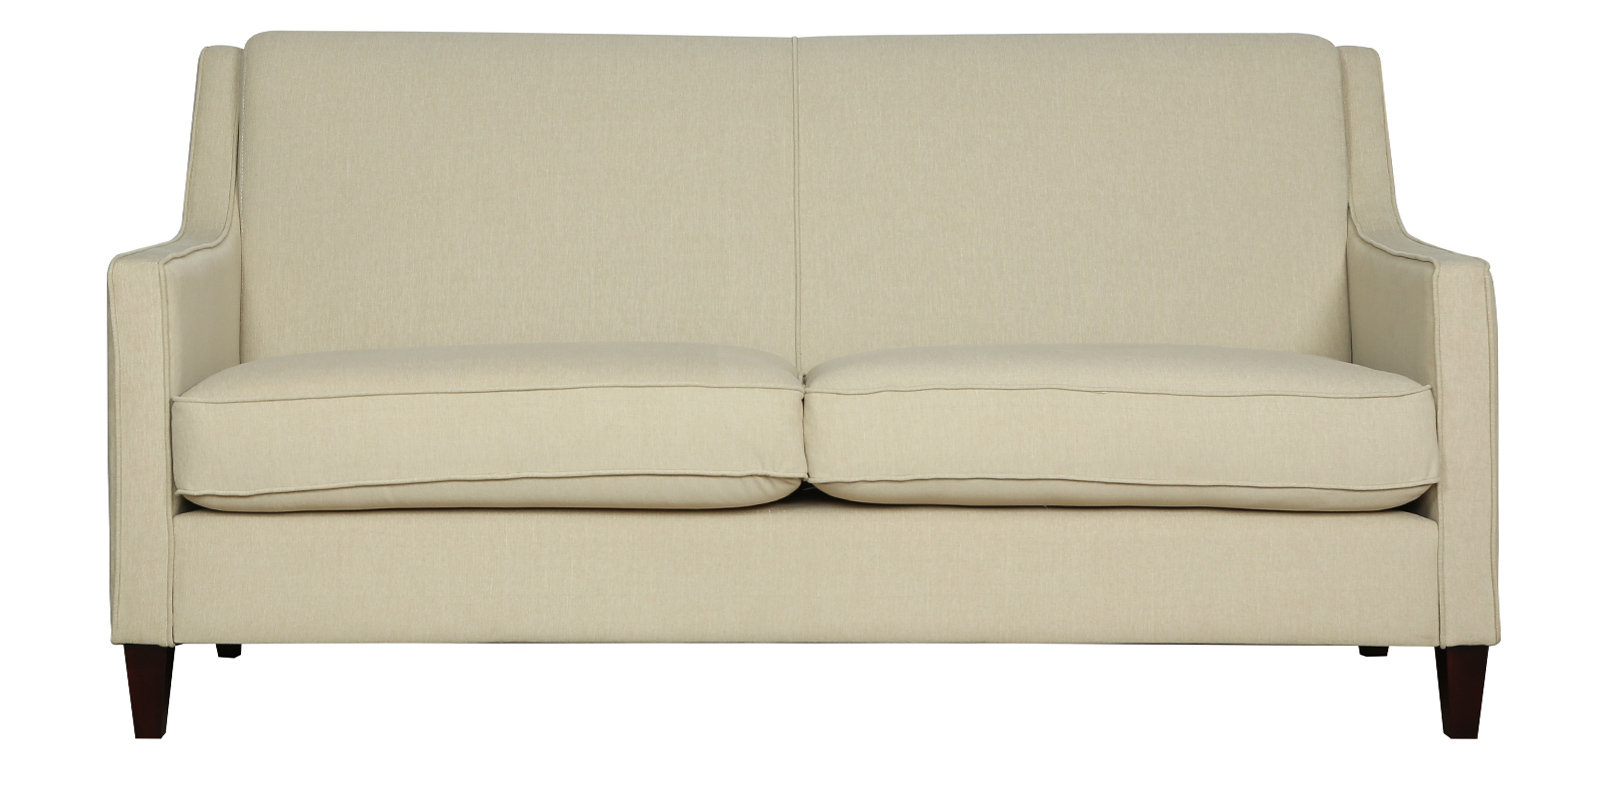Oscar Three Seater Sofa in Beige Colour by CasaCraft: (103, 32, 1503, 741)
